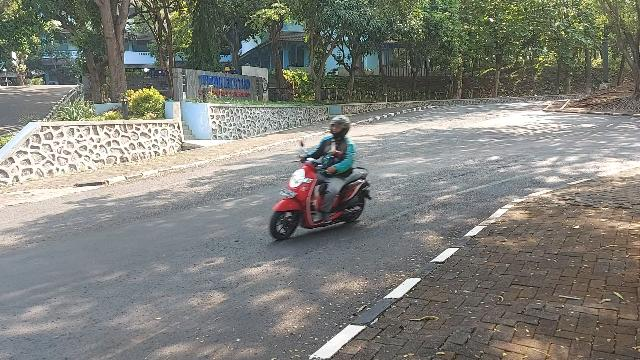helm: (330, 116, 350, 138)
motor: (272, 142, 373, 242)
